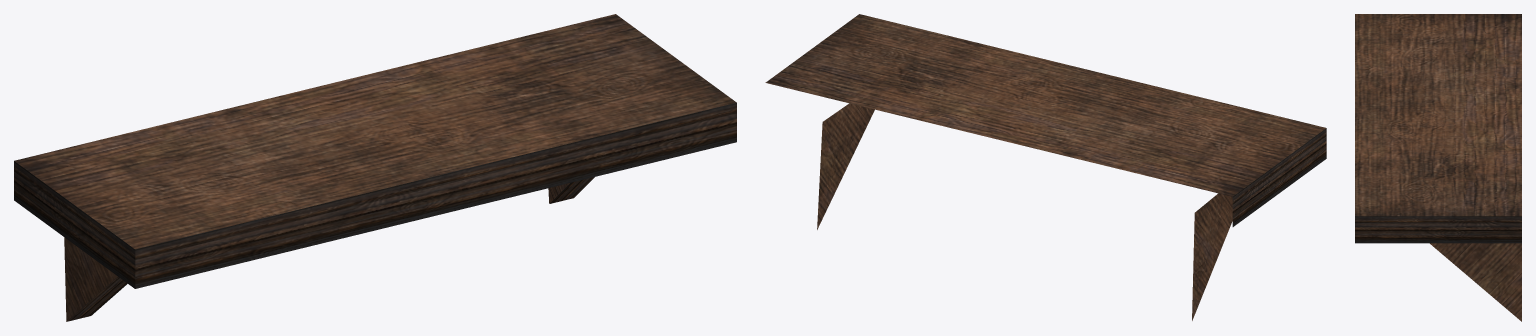
The model's file is GS_VOB_SHELF_ORANGE_01_KOZA.glb.
The picture shows the model from 3 angles, left to right: view 1: azimuth 30°, elevation 25°; view 2: azimuth 150°, elevation 25°; view 3: azimuth 270°, elevation 25°; orthographic projection. The views are drawn at different scales.
Visible parts, largest first — view 1: GS_VOB_SHELF_ORANGE_01_KOZA; view 2: GS_VOB_SHELF_ORANGE_01_KOZA; view 3: GS_VOB_SHELF_ORANGE_01_KOZA.
Part boxes in pixels (bbox=[...]): GS_VOB_SHELF_ORANGE_01_KOZA: bbox=[14, 14, 736, 321]; GS_VOB_SHELF_ORANGE_01_KOZA: bbox=[765, 14, 1326, 320]; GS_VOB_SHELF_ORANGE_01_KOZA: bbox=[1355, 14, 1521, 321].
Bounding box in the file's own units: 1.91 × 0.5274 × 0.6657.
Materials: 2 (2 with a texture image).
